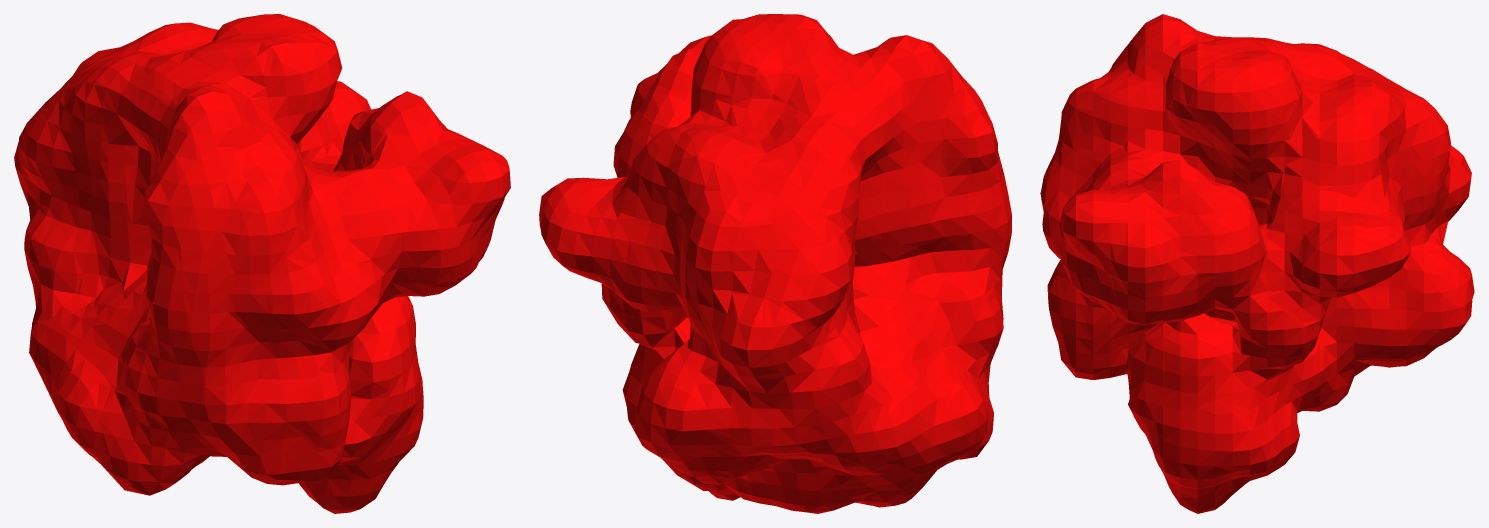
The model's file is coaE_coarse.dae.
The picture shows the model from 3 angles, left to right: view 1: azimuth 30°, elevation 25°; view 2: azimuth 150°, elevation 25°; view 3: azimuth 270°, elevation 25°; orthographic projection. The views are drawn at different scales.
Parts seen in each view (by area): view 1: coaE; view 2: coaE; view 3: coaE.
Part boxes in pixels (left/top/right/bottom): coaE: left=14, top=14, right=510, bottom=513; coaE: left=539, top=14, right=1011, bottom=513; coaE: left=1040, top=14, right=1474, bottom=513.
Bounding box in the file's own units: 64.71 × 77.55 × 70.02.
